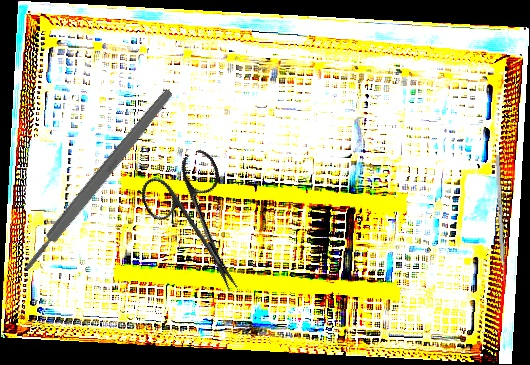Iris Scissors: (133, 146, 272, 308)
Pusher: (494, 154, 508, 293)
Scalpel Handle: (20, 87, 176, 273)
